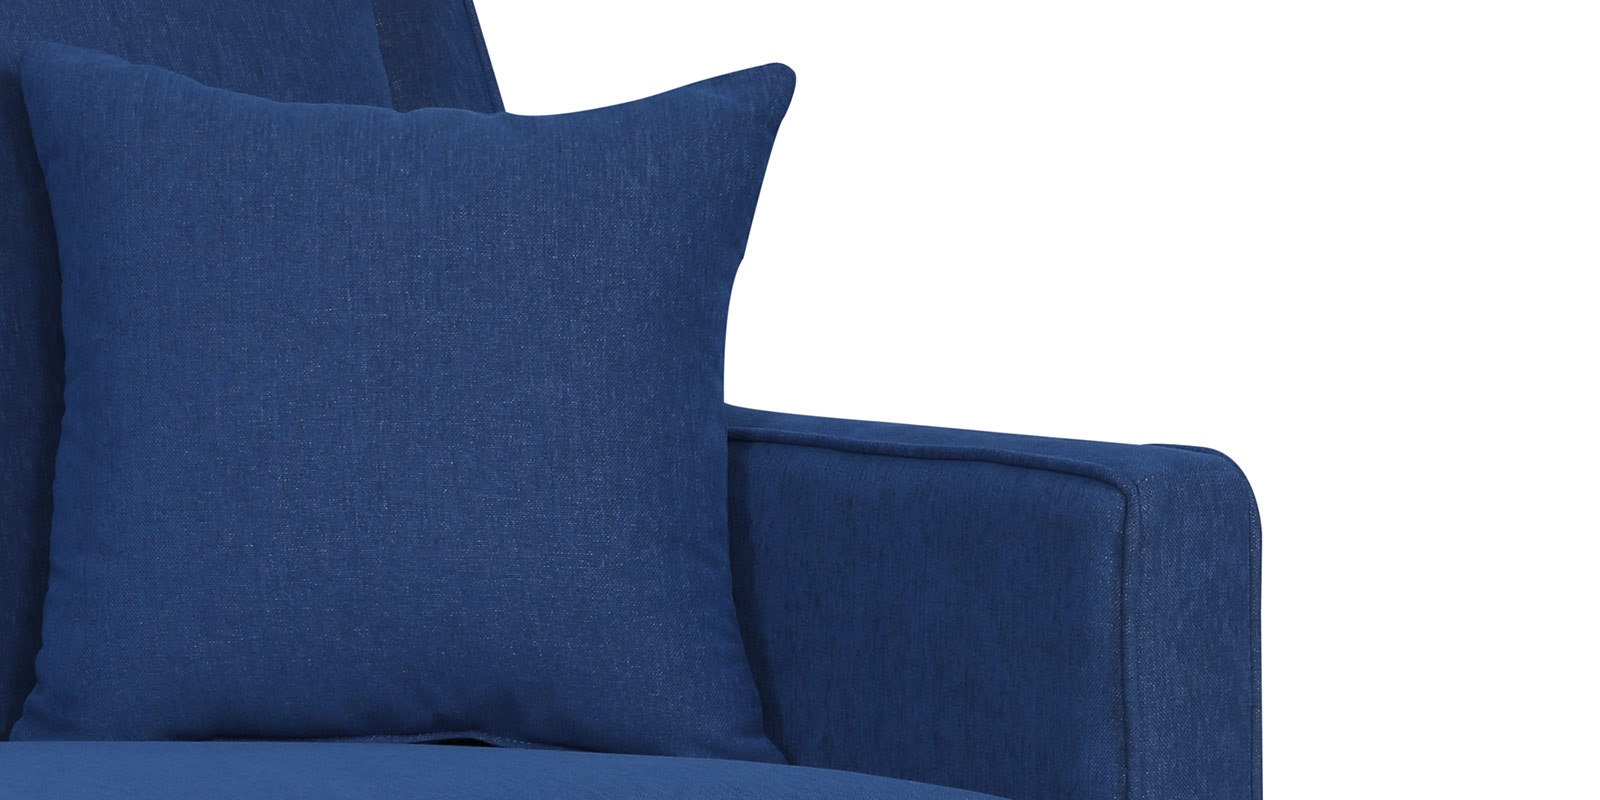Oscar Three Seater Sofa in Denim Blue Colour by CasaCraft: (1, 1, 1264, 798)
